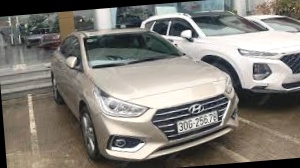Bien-so: (174, 118, 216, 137)
